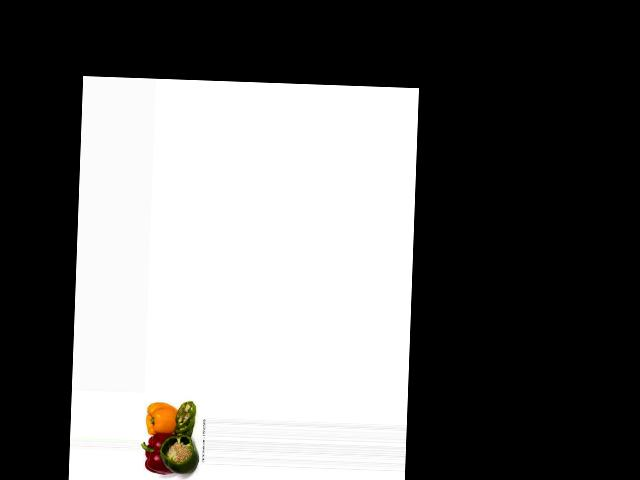bell_pepper: (158, 433, 196, 478)
